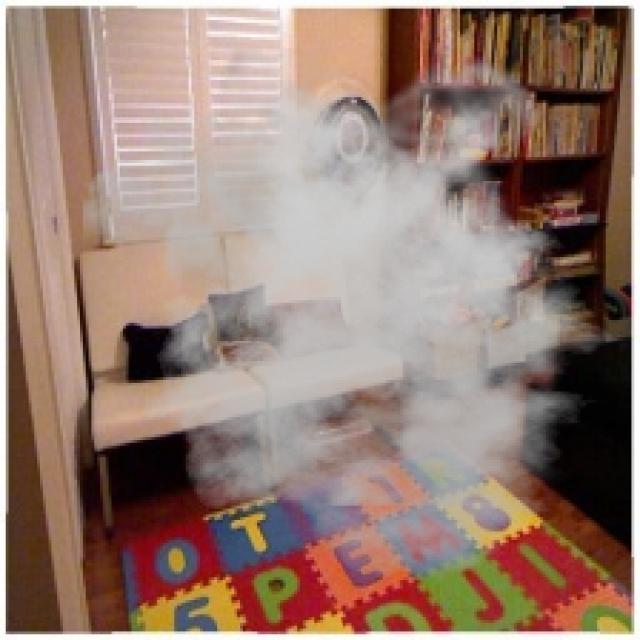smoke: (83, 49, 637, 580)
